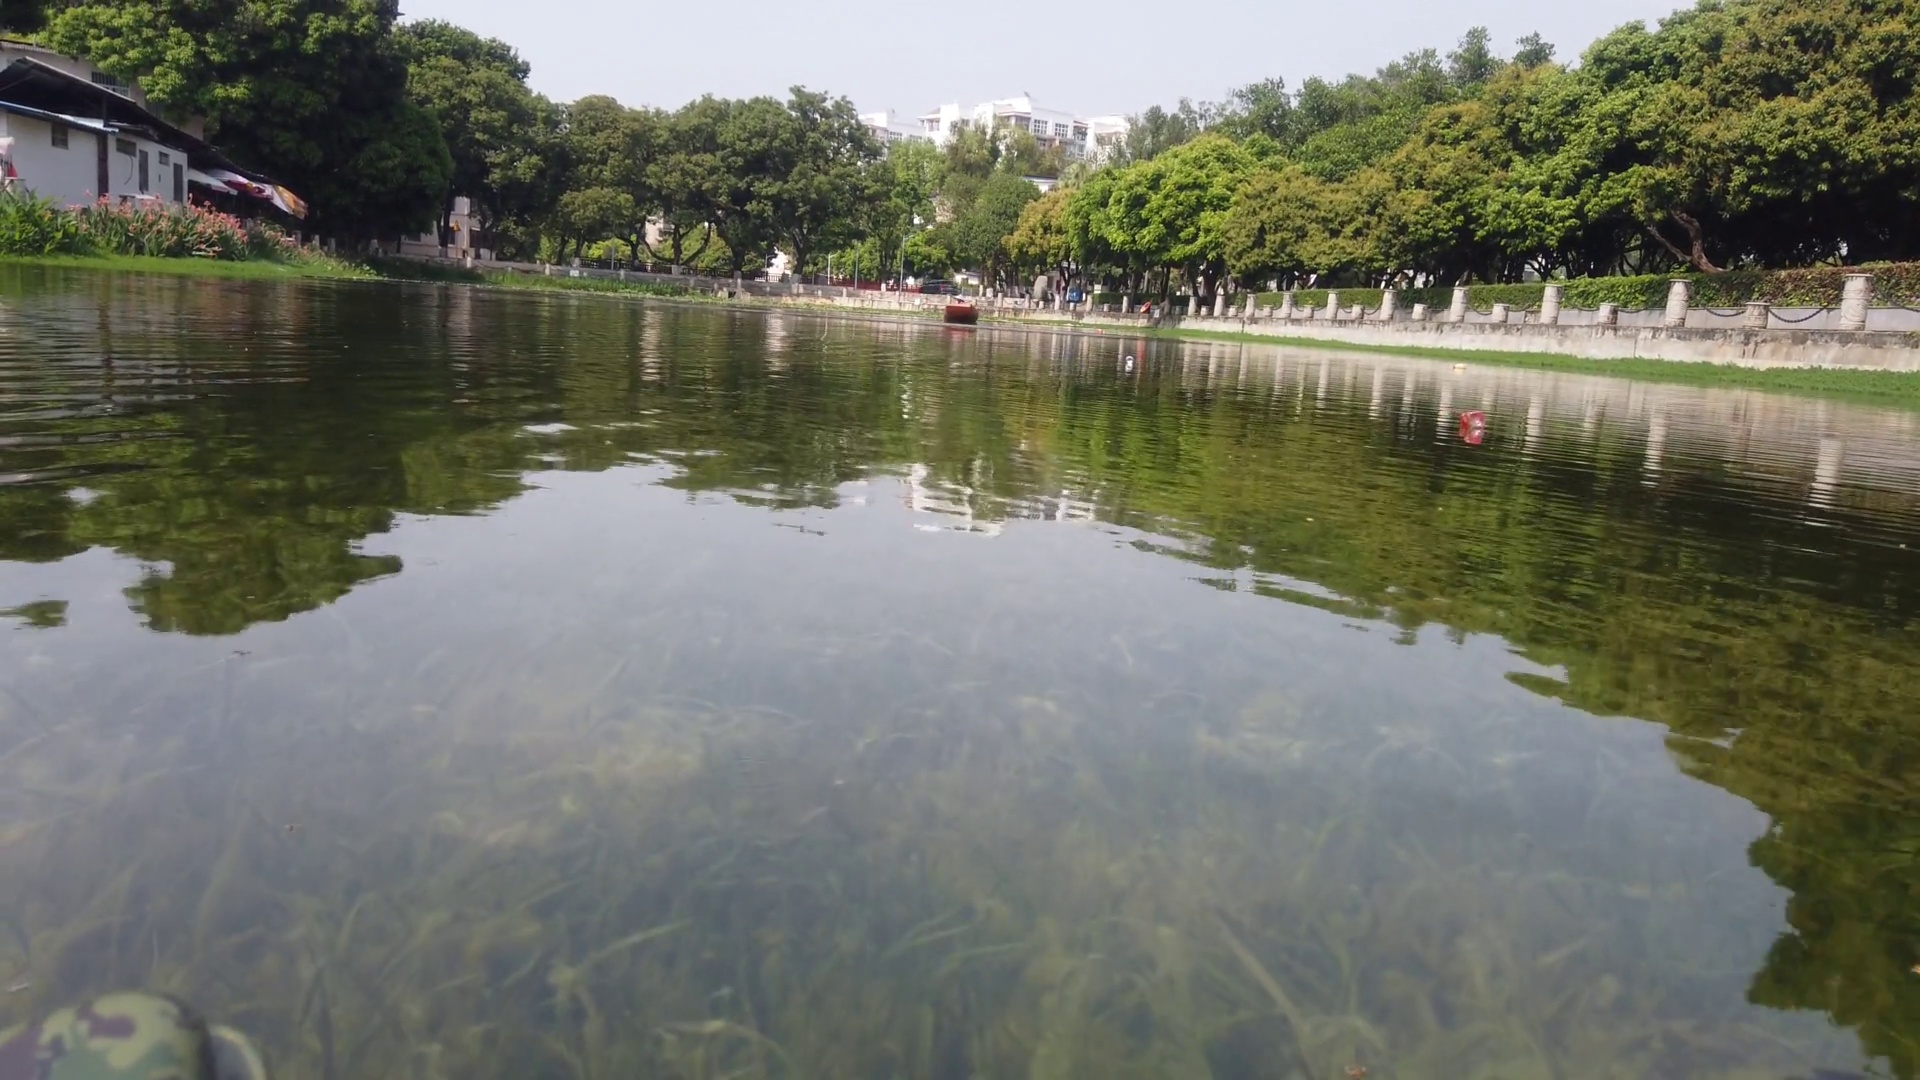bottle: (1460, 411, 1484, 429), (1124, 353, 1135, 367), (1455, 360, 1468, 369)
